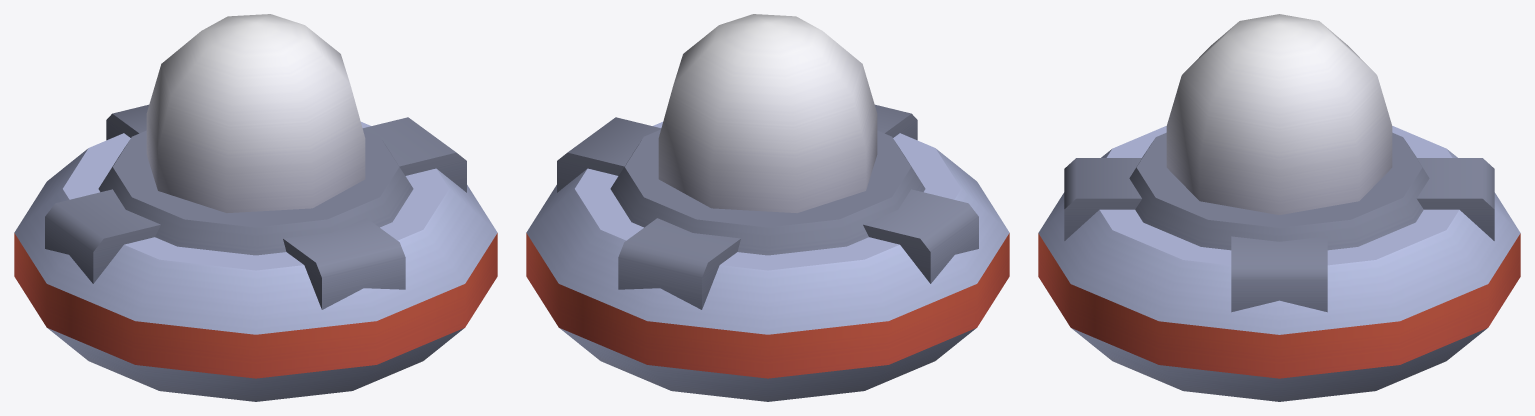
File: enemy-ufo-a.fbx
3 renders of one model, left to right at view 1: azimuth 30°, elevation 25°; view 2: azimuth 150°, elevation 25°; view 3: azimuth 270°, elevation 25°, orthographic.
Visible parts, largest first — view 1: enemy-ufo-a; view 2: enemy-ufo-a; view 3: enemy-ufo-a.
Part boxes in pixels (x1,y1,x2,y2): enemy-ufo-a: (14,14,497,401); enemy-ufo-a: (526,14,1009,401); enemy-ufo-a: (1038,14,1520,401).
Bounding box in the file's own units: 100 × 67.79 × 100.
